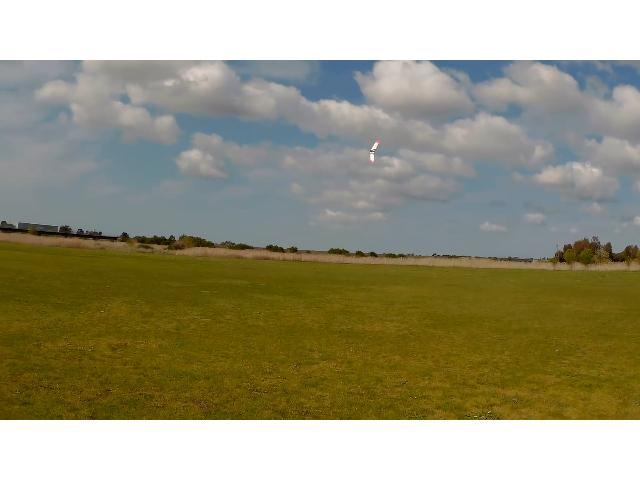Anti-Drone: (368, 140, 380, 163)
